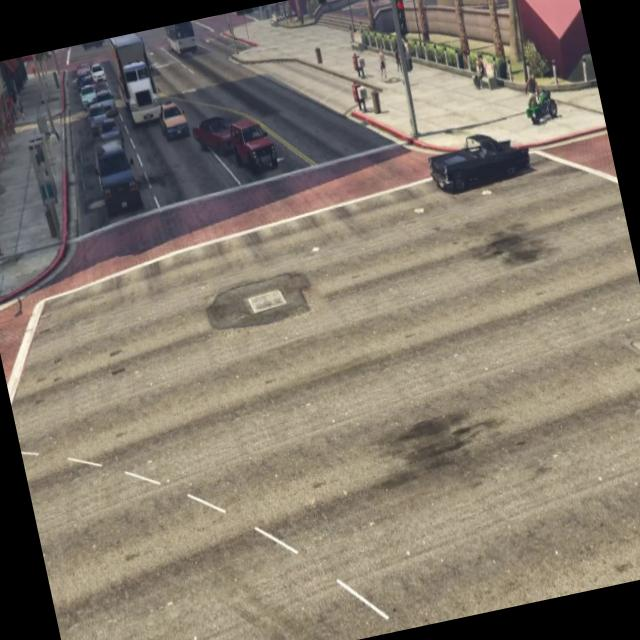Red-Signal: (390, 0, 414, 47), (314, 0, 331, 11)
